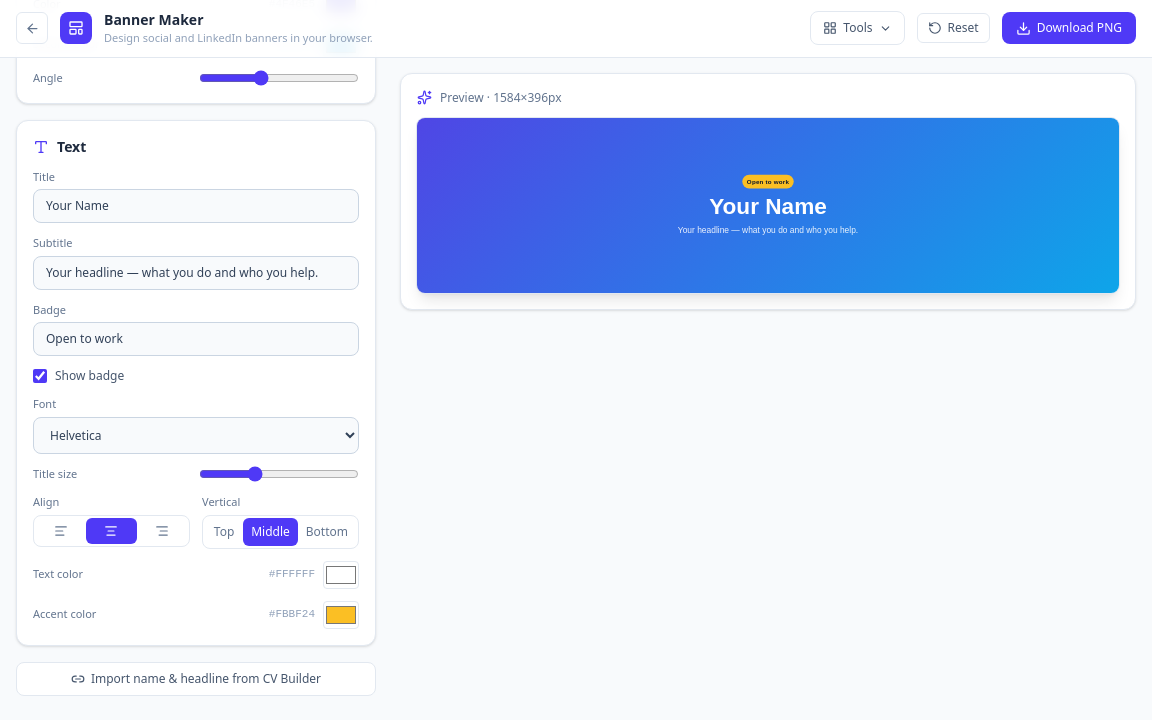
Scenario: BannerApp › warns when there is no saved CV to import
(page scrolled)
Click the button "Import name & headline from CV Builder".
click(196, 678)  # box [16,662,376,696]
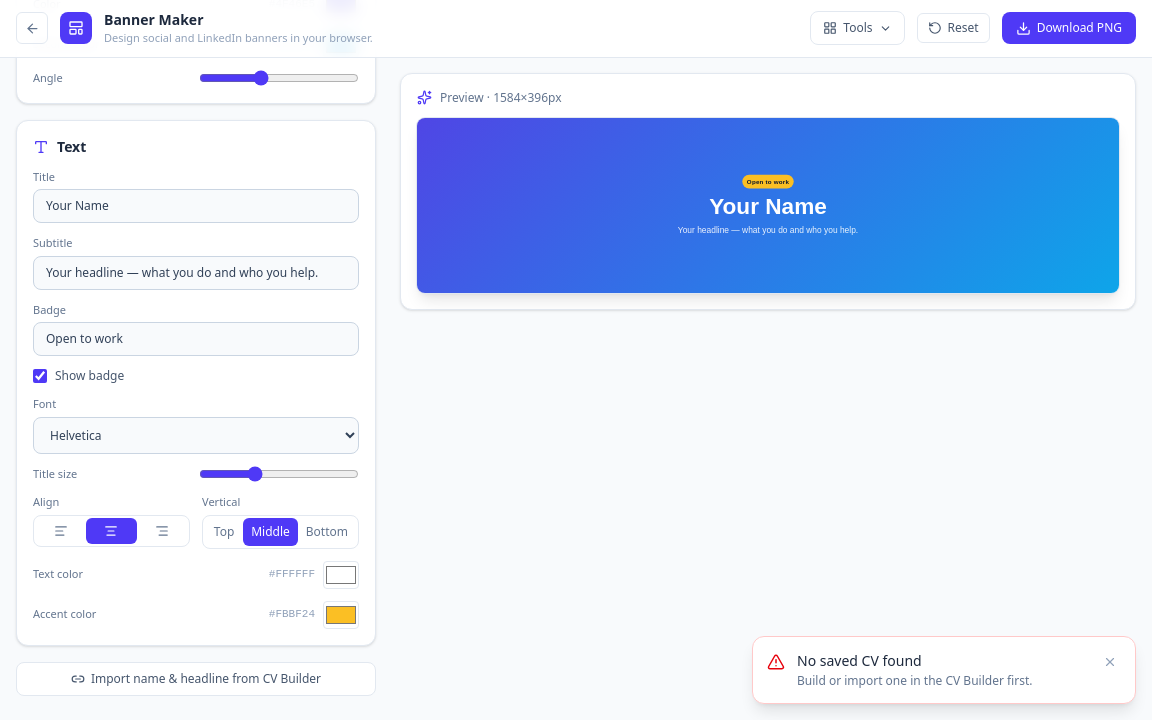
Expected: the text "No saved CV found" is shown, [797,651,922,670]
